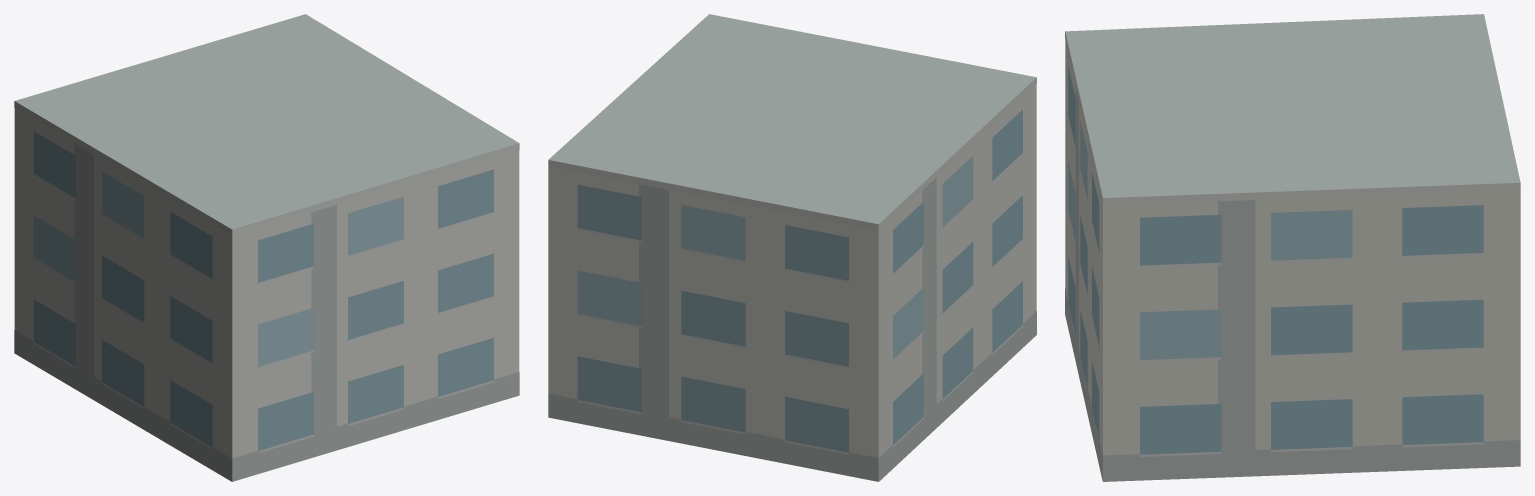
File: survey-upis-32633666.glb
3 renders of one model, left to right at view 1: azimuth 30°, elevation 25°; view 2: azimuth 150°, elevation 25°; view 3: azimuth 270°, elevation 25°, orthographic. The views are drawn at different scales.
Visible parts, largest first — view 1: survey-upis-32633666.tmp; view 2: survey-upis-32633666.tmp; view 3: survey-upis-32633666.tmp.
Part boxes in pixels (x1,y1,x2,y2): survey-upis-32633666.tmp: (14,14,519,481); survey-upis-32633666.tmp: (548,14,1036,481); survey-upis-32633666.tmp: (1065,14,1520,481).
Size of the model in its own units: 12.74 by 9.15 by 13.32.
